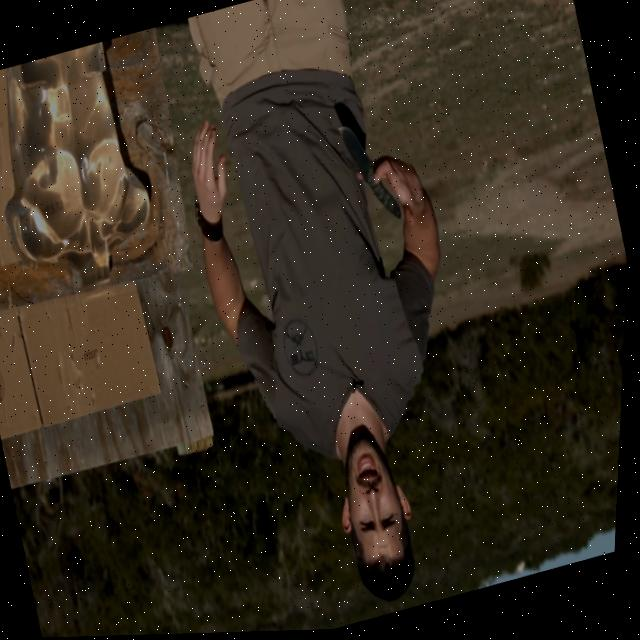knife: (333, 114, 411, 241)
